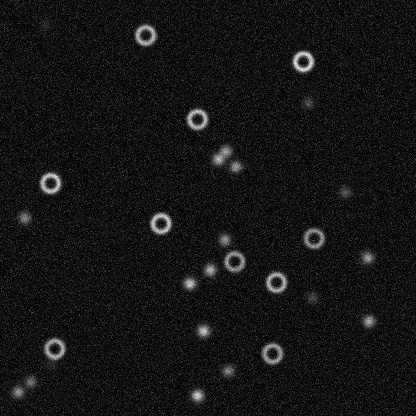Ring: (290, 49, 314, 73), (222, 249, 246, 273), (301, 226, 325, 250), (133, 22, 157, 46), (38, 170, 62, 194), (264, 270, 288, 294), (260, 341, 284, 365), (42, 336, 66, 360), (185, 107, 209, 131), (148, 211, 172, 235)
Spot: (43, 355, 59, 371), (300, 94, 316, 110), (181, 275, 197, 291), (210, 151, 226, 167), (219, 362, 235, 378), (195, 322, 211, 338), (360, 313, 376, 329), (37, 16, 53, 32), (16, 209, 32, 225), (359, 249, 375, 265), (216, 231, 232, 247), (227, 158, 243, 174), (22, 373, 38, 389), (336, 183, 352, 199), (9, 383, 25, 399), (202, 261, 218, 277), (189, 387, 205, 403), (217, 142, 233, 158), (304, 289, 320, 305)
